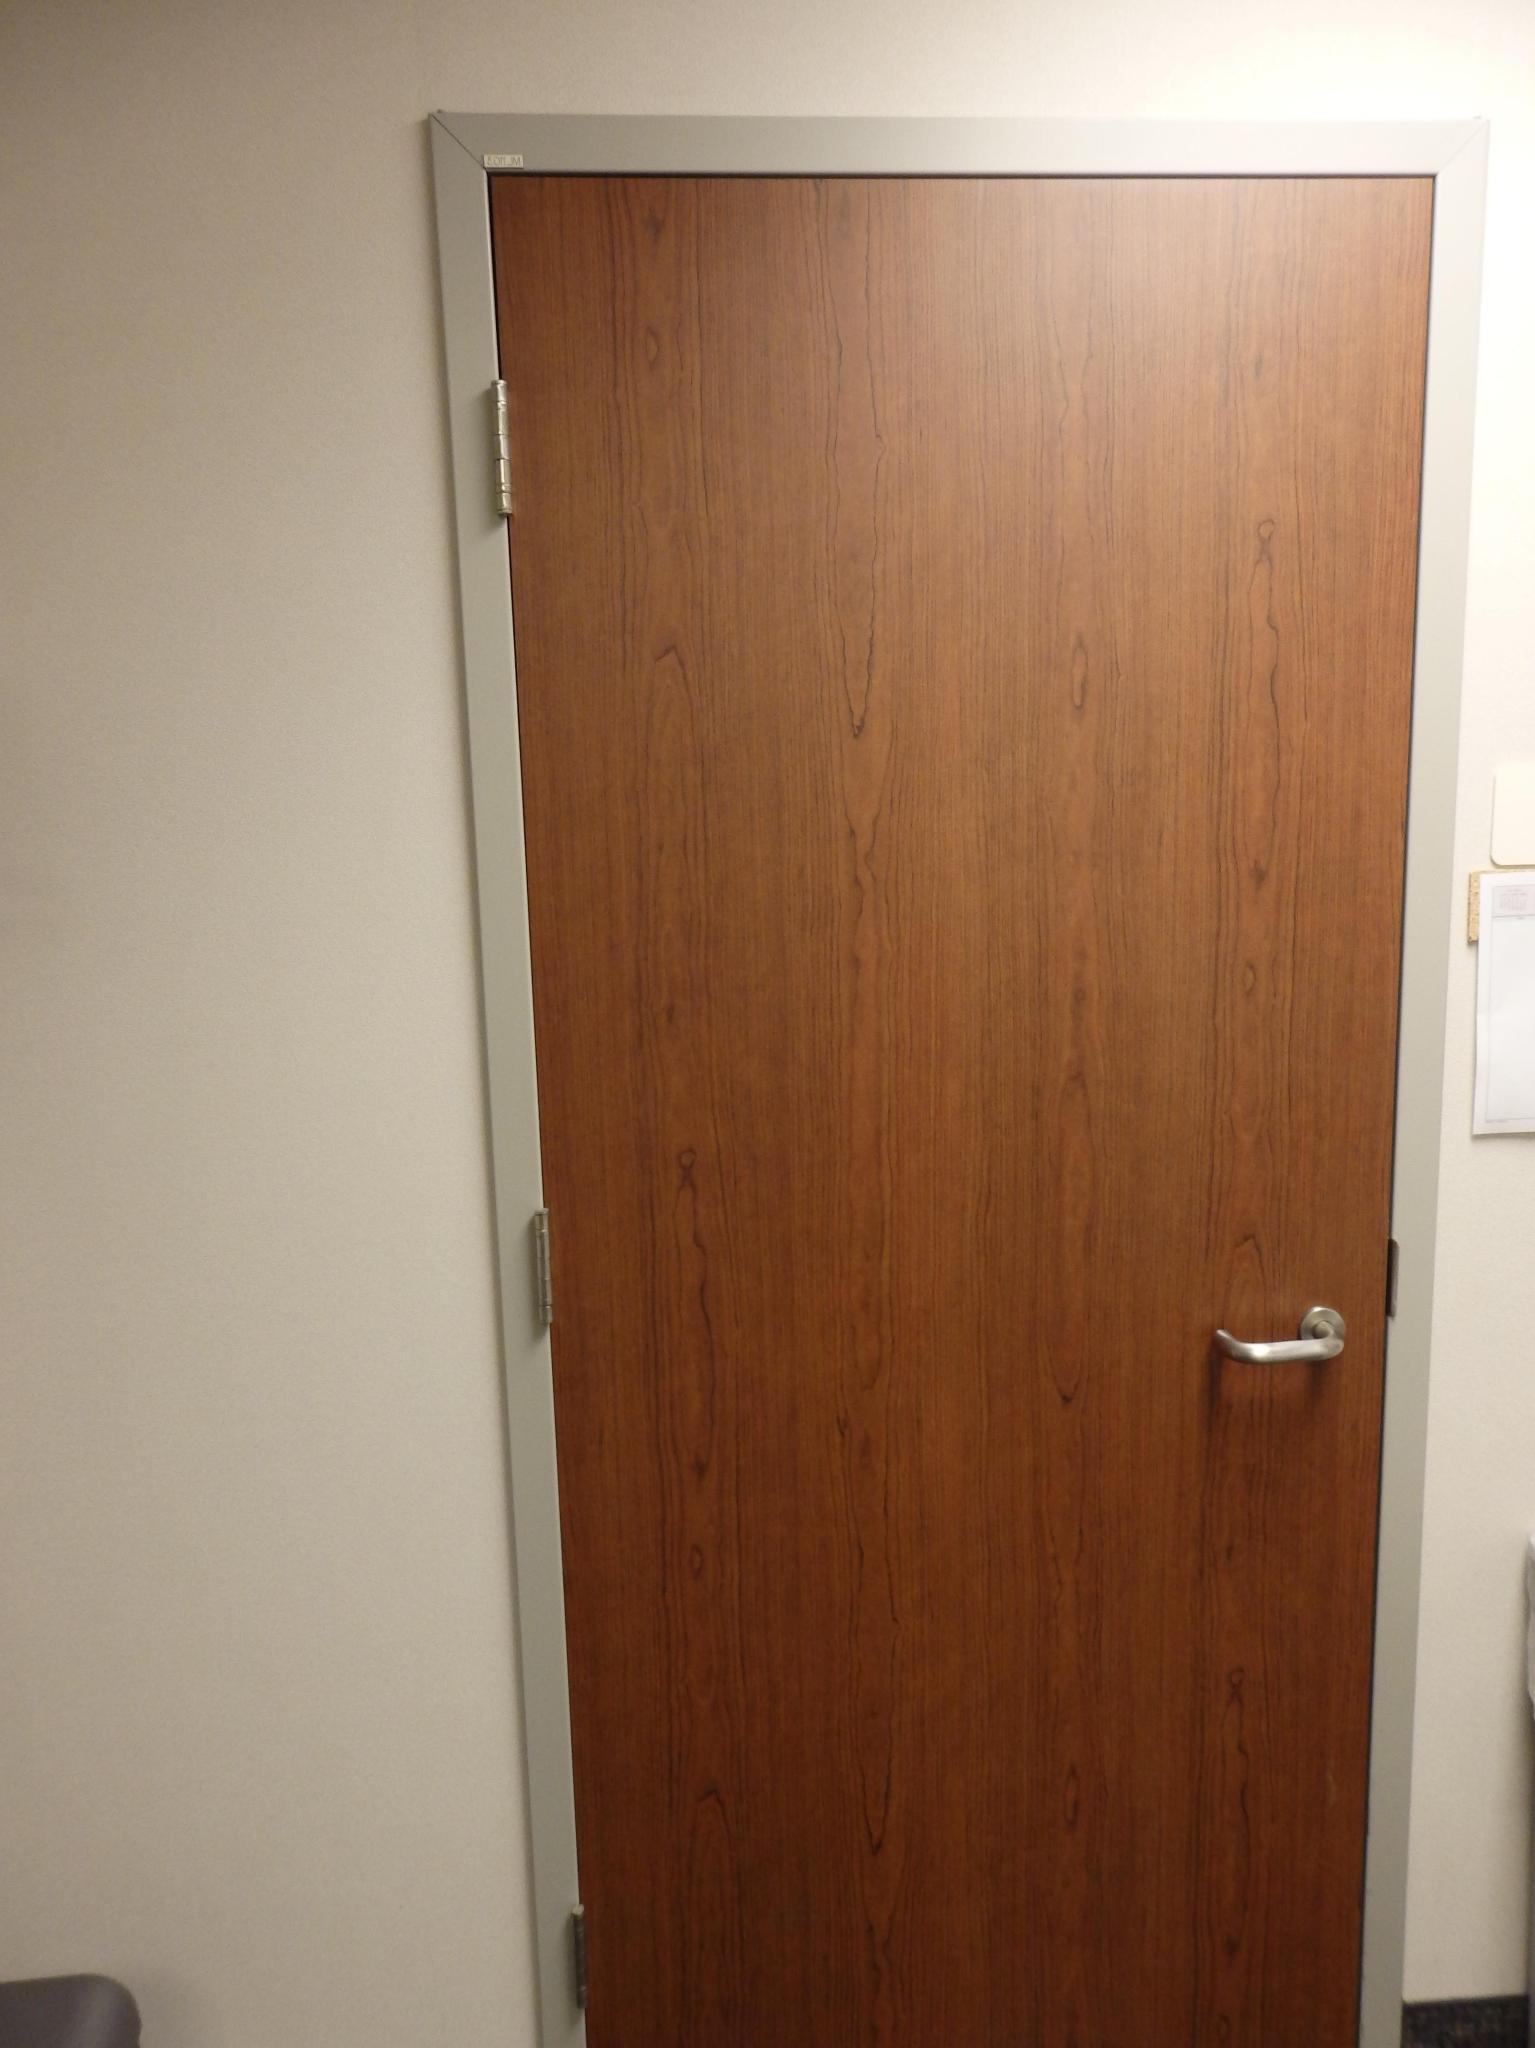door: (576, 197, 1424, 2048)
handle: (1208, 1300, 1354, 1387)
